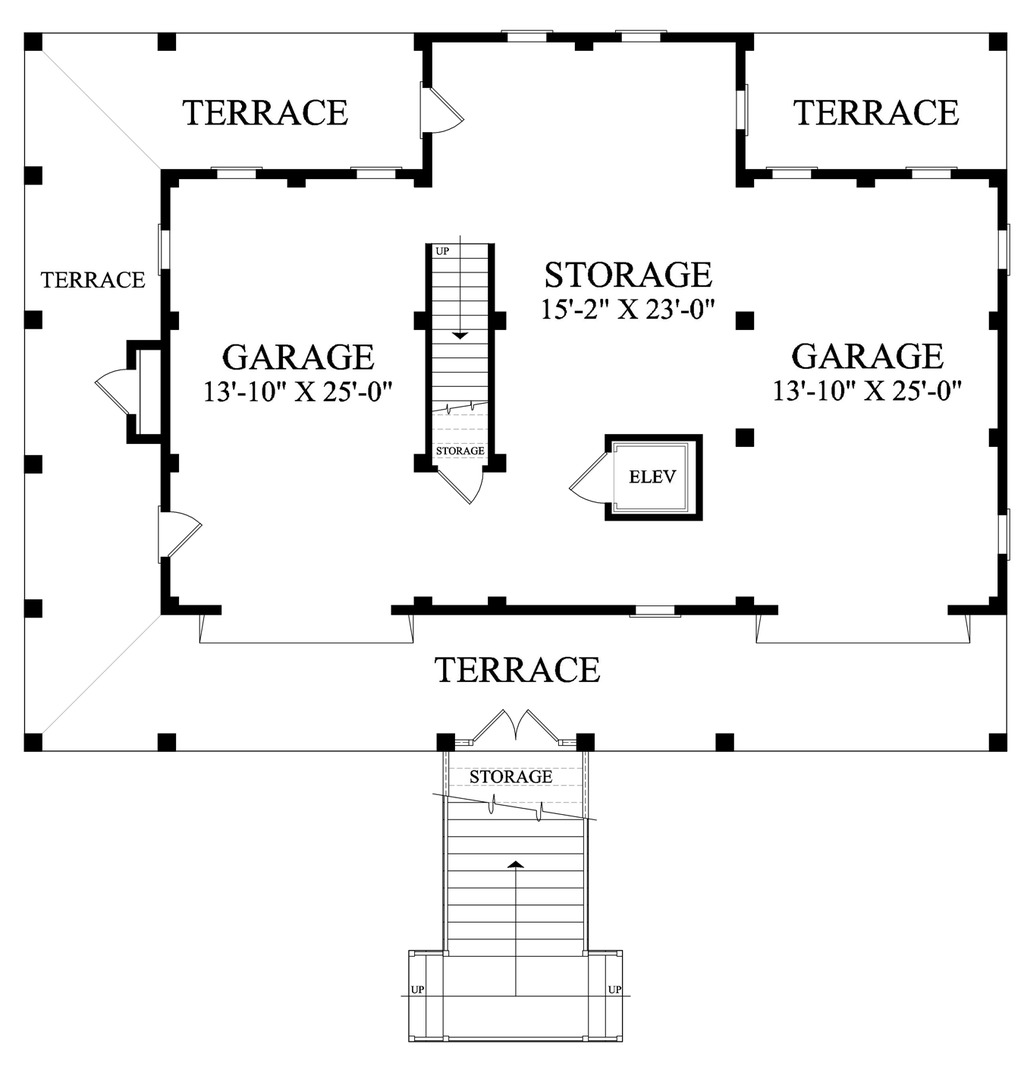door: (410, 83, 471, 147), (467, 707, 556, 748), (153, 502, 204, 567), (559, 445, 612, 505), (91, 359, 144, 412), (439, 461, 485, 508)
stairs: (407, 748, 626, 1046), (419, 241, 511, 471)
window: (495, 24, 553, 51), (899, 160, 965, 182), (757, 161, 816, 183), (203, 164, 264, 184), (994, 503, 1014, 563), (731, 76, 750, 138), (609, 27, 670, 46), (996, 220, 1015, 281), (344, 163, 405, 181), (626, 601, 681, 618), (157, 222, 173, 272)
